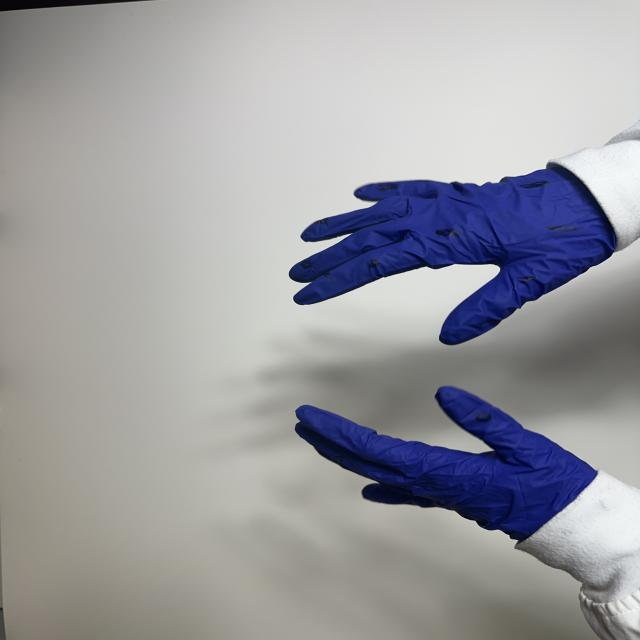gloves_contaminated: (282, 171, 606, 347), (291, 383, 601, 543)
